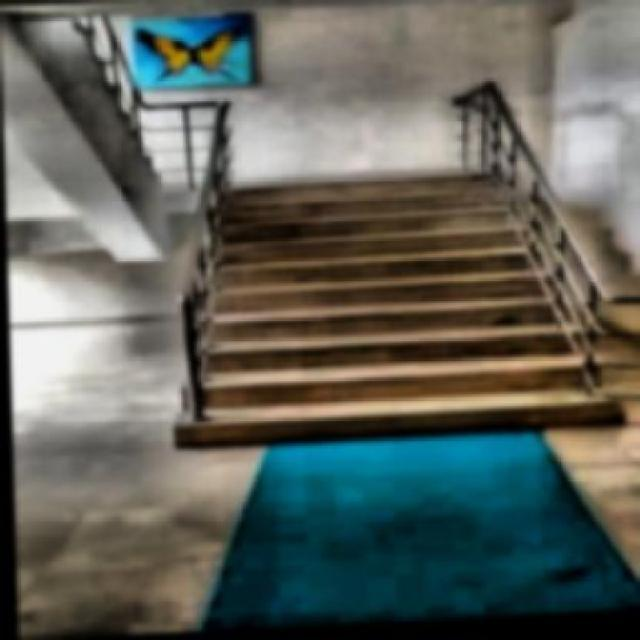stair: (168, 168, 616, 450)
